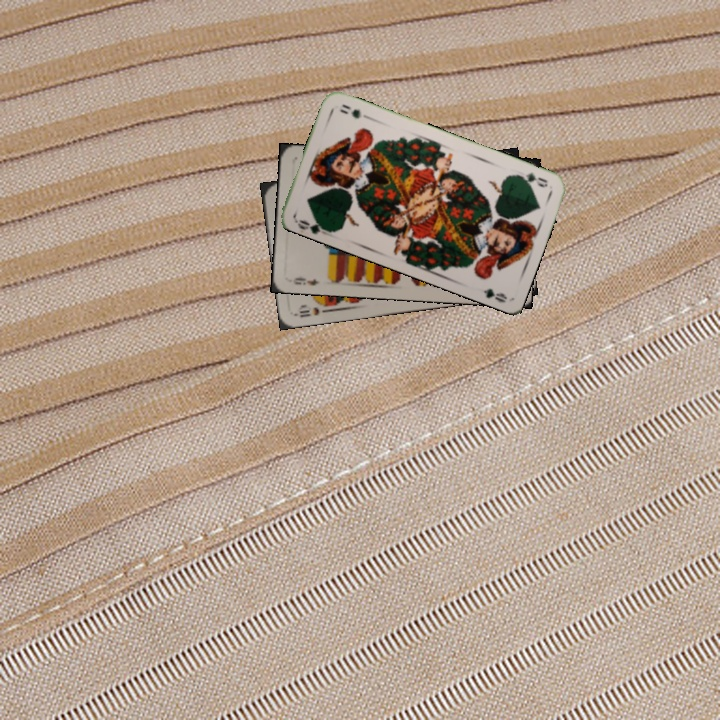E9: (289, 273, 322, 288)
GO: (292, 213, 332, 238), (511, 168, 550, 190)
S10: (293, 299, 333, 320)
